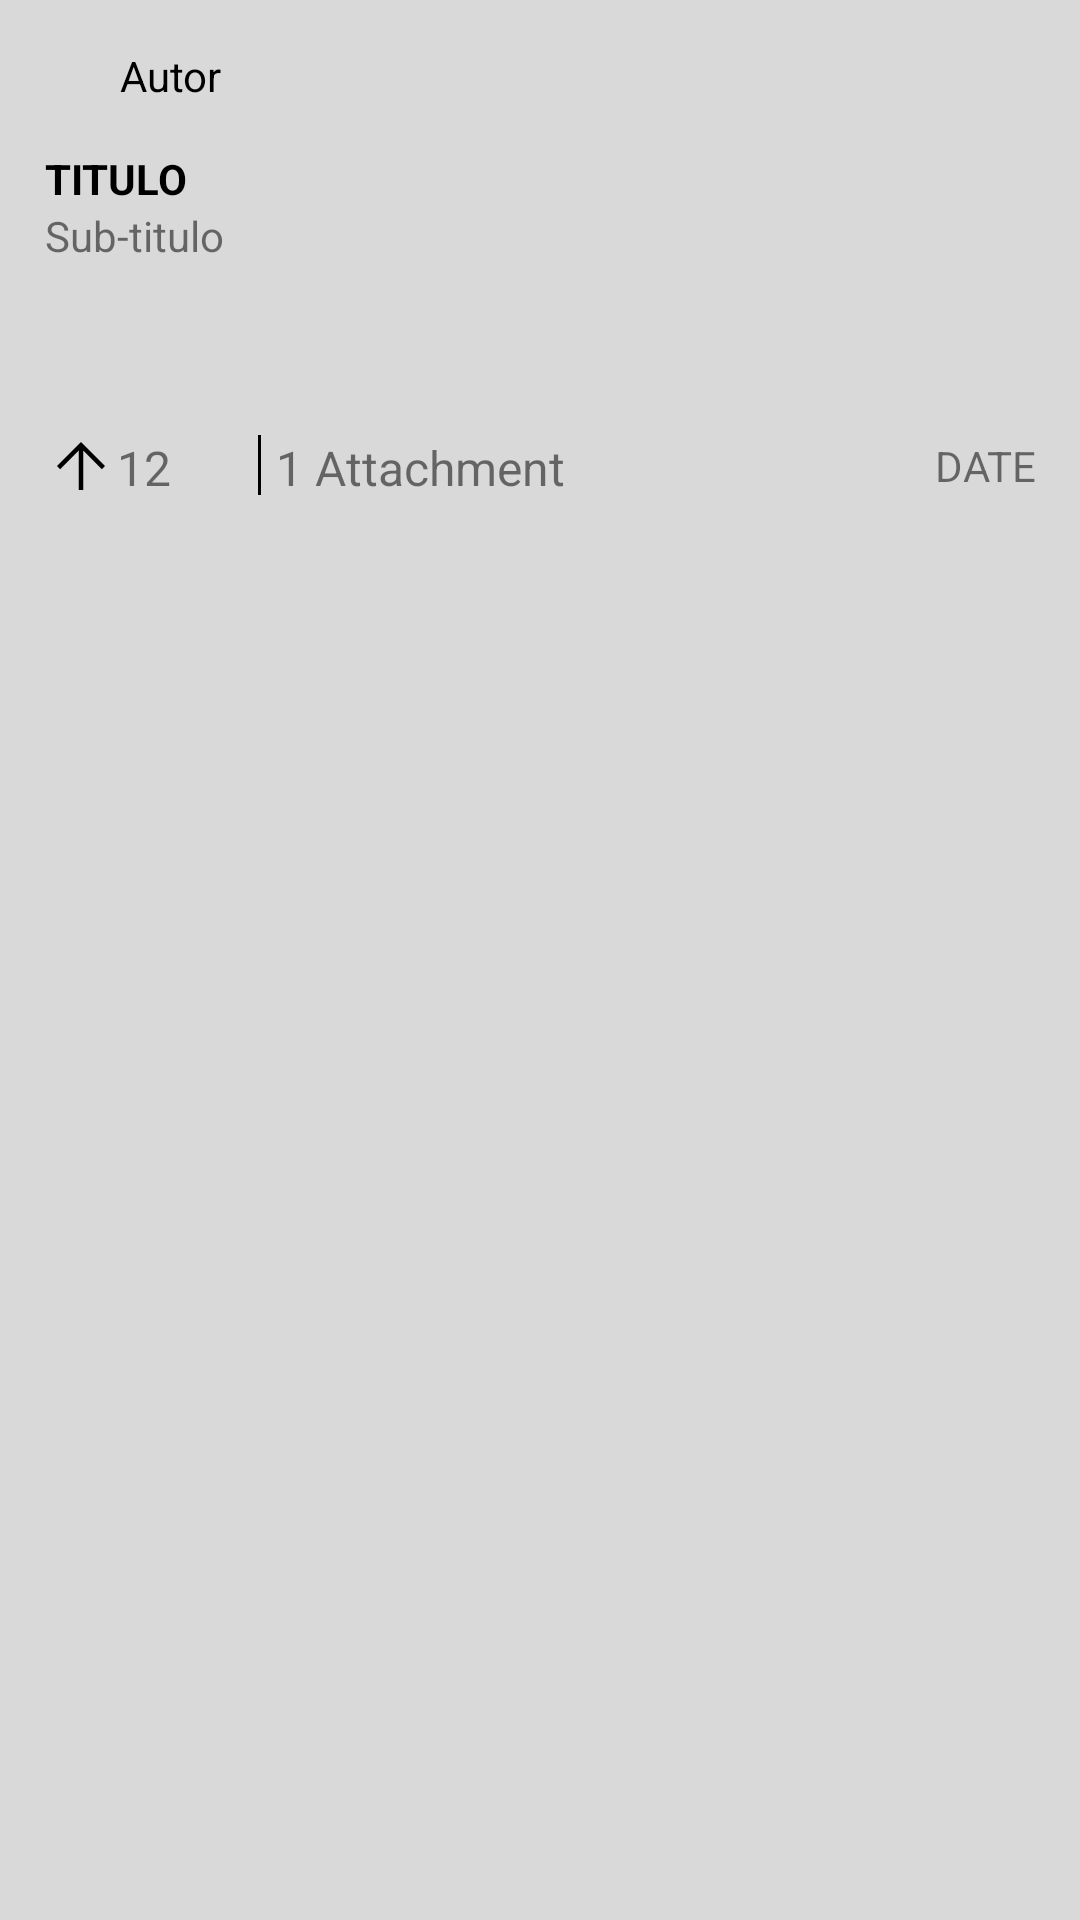

Icons on this 1080*1920 Android screen, each with the point to tap as (x=x, y=y):
arrow up: (x=81, y=466)
